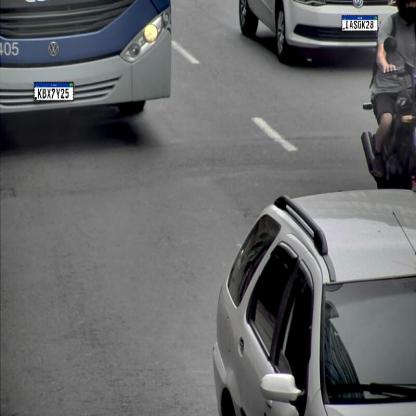PlacaM: (34, 82, 74, 101), (342, 15, 378, 31)
